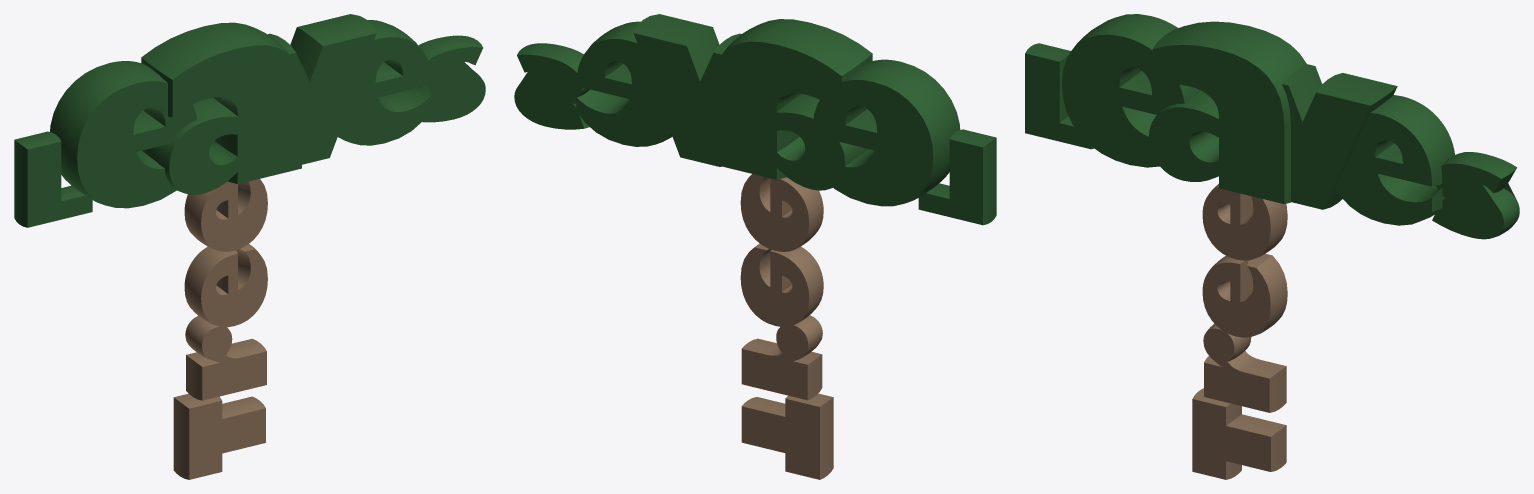
Rendered from tree.fbx.
The picture shows the model from 3 angles, left to right: view 1: azimuth 30°, elevation 25°; view 2: azimuth 150°, elevation 25°; view 3: azimuth 330°, elevation 25°; orthographic projection. The views are drawn at different scales.
Visible parts, largest first — view 1: typeMesh1, pasted__typeMesh1; view 2: typeMesh1, pasted__typeMesh1; view 3: typeMesh1, pasted__typeMesh1.
Boxes of the visible parts, left/top/right/bottom form: typeMesh1: left=14, top=14, right=485, bottom=227; pasted__typeMesh1: left=173, top=179, right=267, bottom=479; typeMesh1: left=514, top=14, right=996, bottom=225; pasted__typeMesh1: left=740, top=174, right=833, bottom=479; typeMesh1: left=1025, top=14, right=1519, bottom=239; pasted__typeMesh1: left=1192, top=184, right=1287, bottom=479.
Size of the model in its own units: 58.51 by 52.19 by 6.76.
